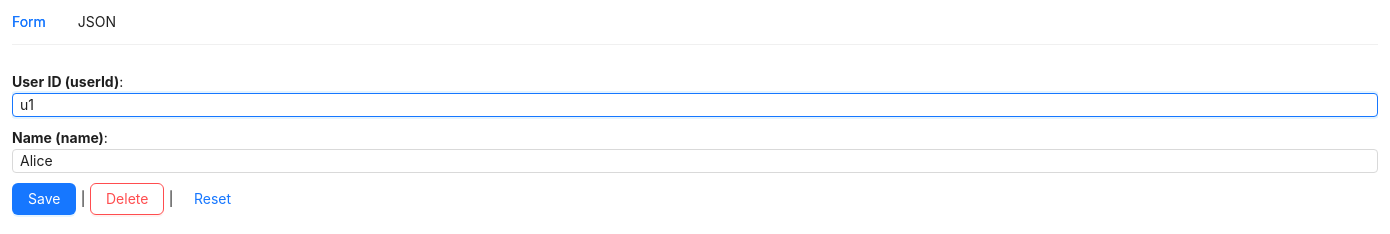
Test: UpdatePage › explains that delete is unsupported outside split-table mode
The image size is (1390, 234).
Expected: the button "Save" is shown, x1=12 y1=183 x2=76 y2=215
Click the button "Delete" at point(127, 199), box x1=90 y1=183 x2=164 y2=215
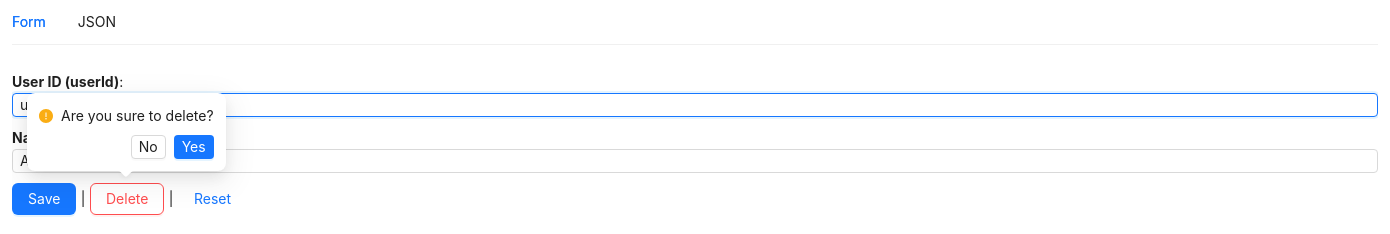
Click the button "Yes" at point(194, 147), box x1=174 y1=135 x2=214 y2=159
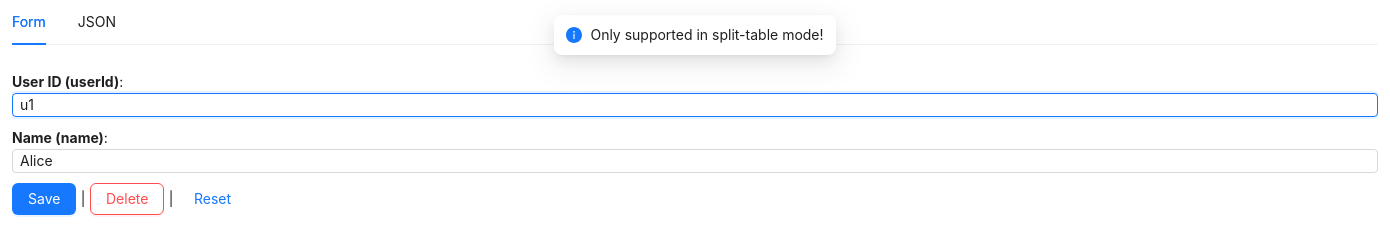
Now the text "Only supported in split-table mode!" is shown, box x1=590 y1=24 x2=824 y2=46
